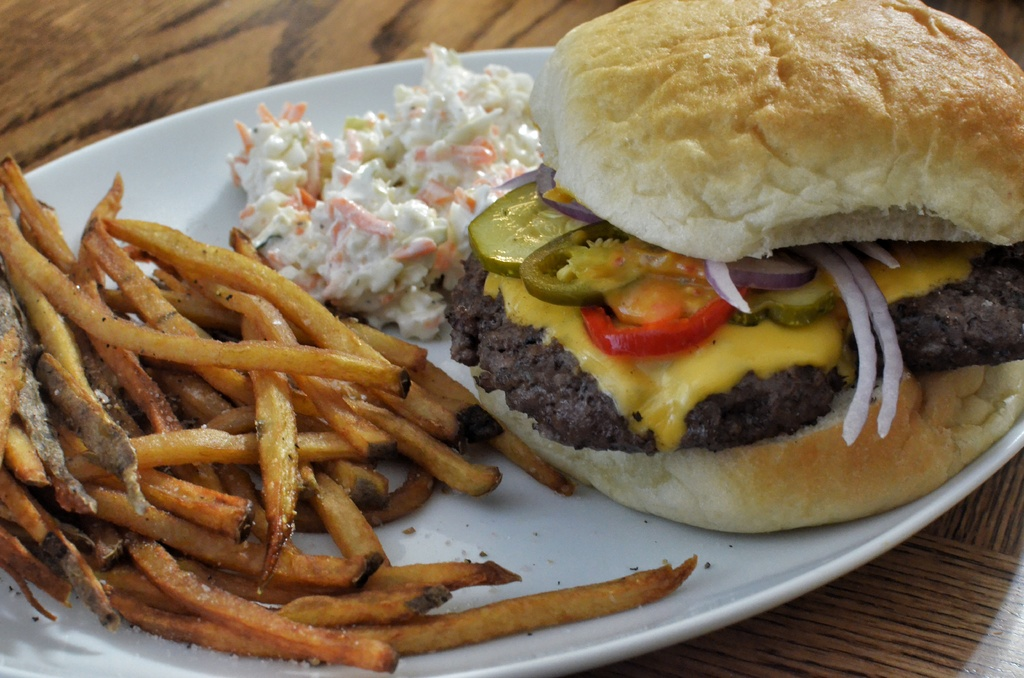French fries: (0, 156, 511, 663)
